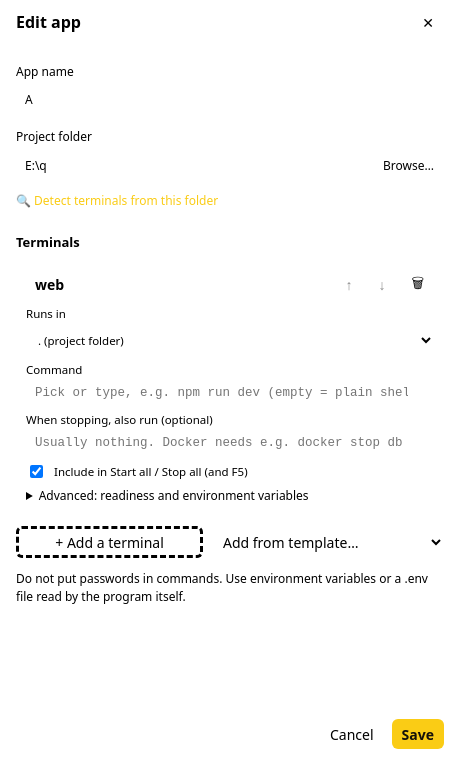
Test: the terminal executable flag (R11) › R11: the flag can be turned off and on again and the saved value follows it
The image size is (460, 763).
Later steps or results of the test are not shown.
Click the checkbox named "Terminal 1 executable".
click(36, 472)  # box [30, 465, 43, 478]
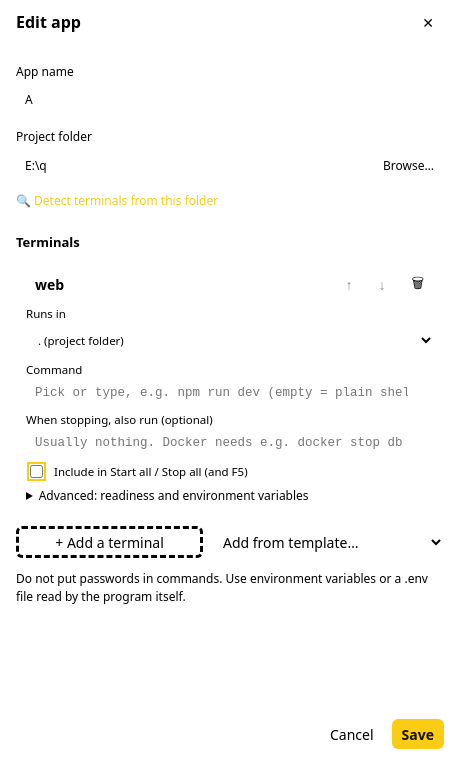
Click the checkbox named "Terminal 1 executable".
click(36, 472)  # box [30, 465, 43, 478]
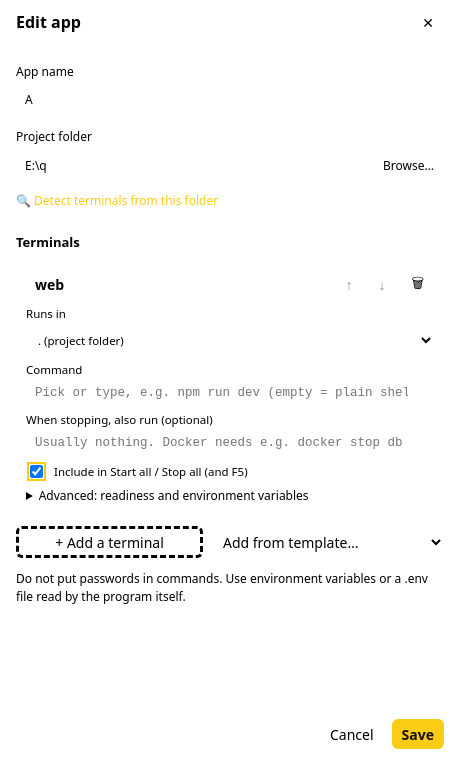
Expected: the checkbox named "Terminal 1 executable" is checked, [30, 465, 43, 478]
